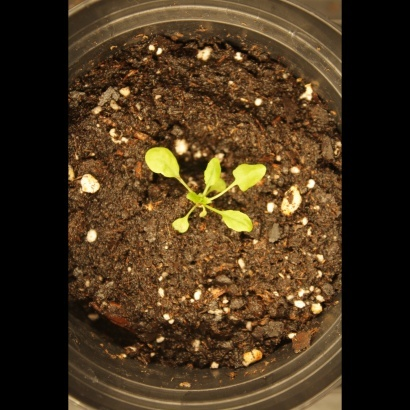leaf: (137, 138, 186, 189), (216, 199, 264, 238), (230, 161, 281, 192), (197, 152, 224, 192), (165, 211, 196, 240), (210, 178, 233, 201), (186, 188, 209, 211)
